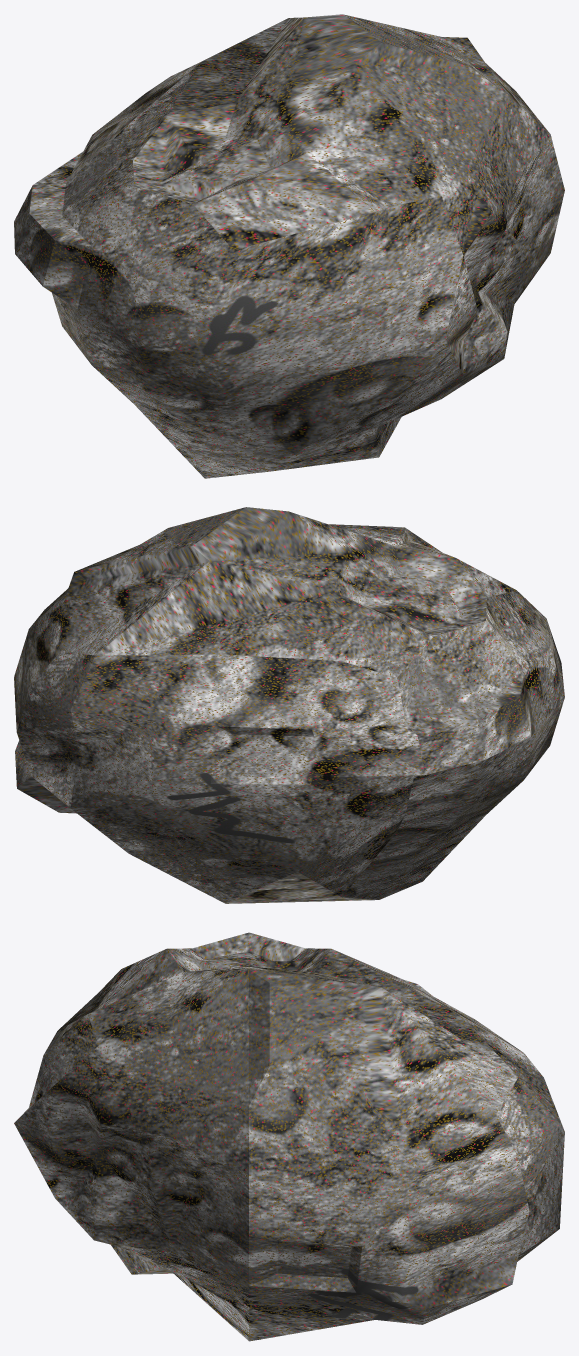
Rendered from Asteroid1.FBX.
3 views of the same model, one above another, from view 1: azimuth 30°, elevation 25°; view 2: azimuth 150°, elevation 25°; view 3: azimuth 270°, elevation 25° (orthographic). The views are drawn at different scales.
Visible parts, largest first — view 1: Box002; view 2: Box002; view 3: Box002.
Boxes of the visible parts, x1,y1,x2,y2 form: Box002: (14,14,564,478); Box002: (14,507,564,903); Box002: (14,932,564,1341).
Size of the model in its own units: 118 by 113 by 84.67.
Materials: 1 (1 with a texture image).
